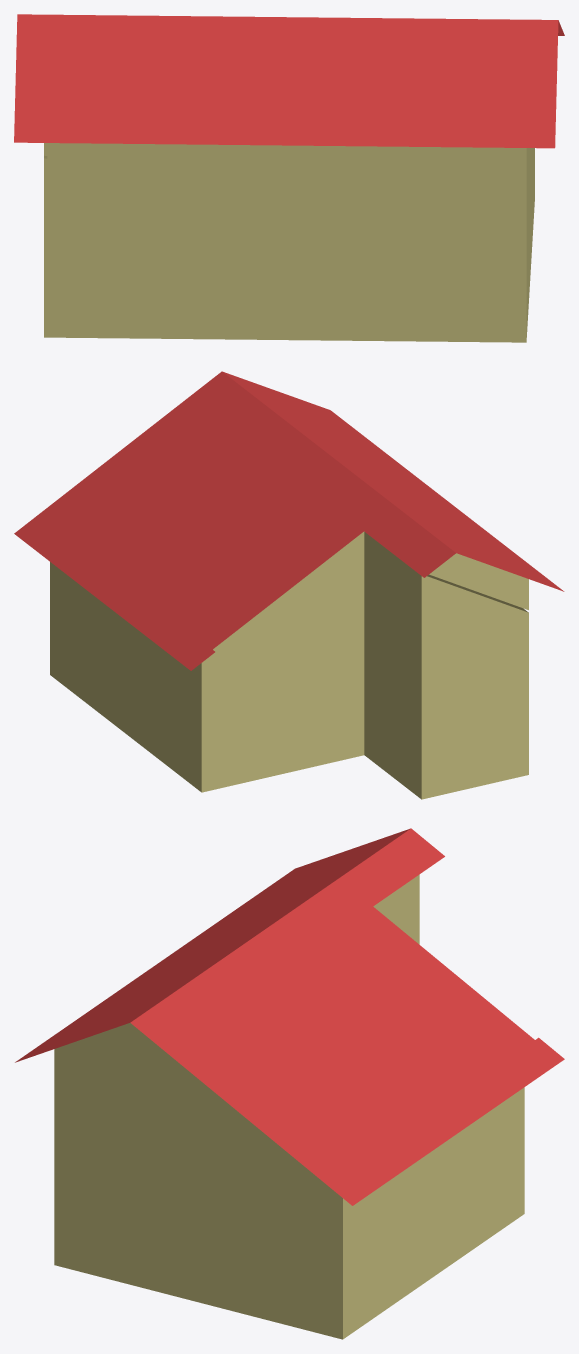
The picture shows the model from 3 angles, top to bottom: view 1: azimuth 30°, elevation 25°; view 2: azimuth 150°, elevation 25°; view 3: azimuth 270°, elevation 25°; orthographic projection. The views are drawn at different scales.
Bounding box in the file's own units: 22.81 × 18.85 × 10.44.
